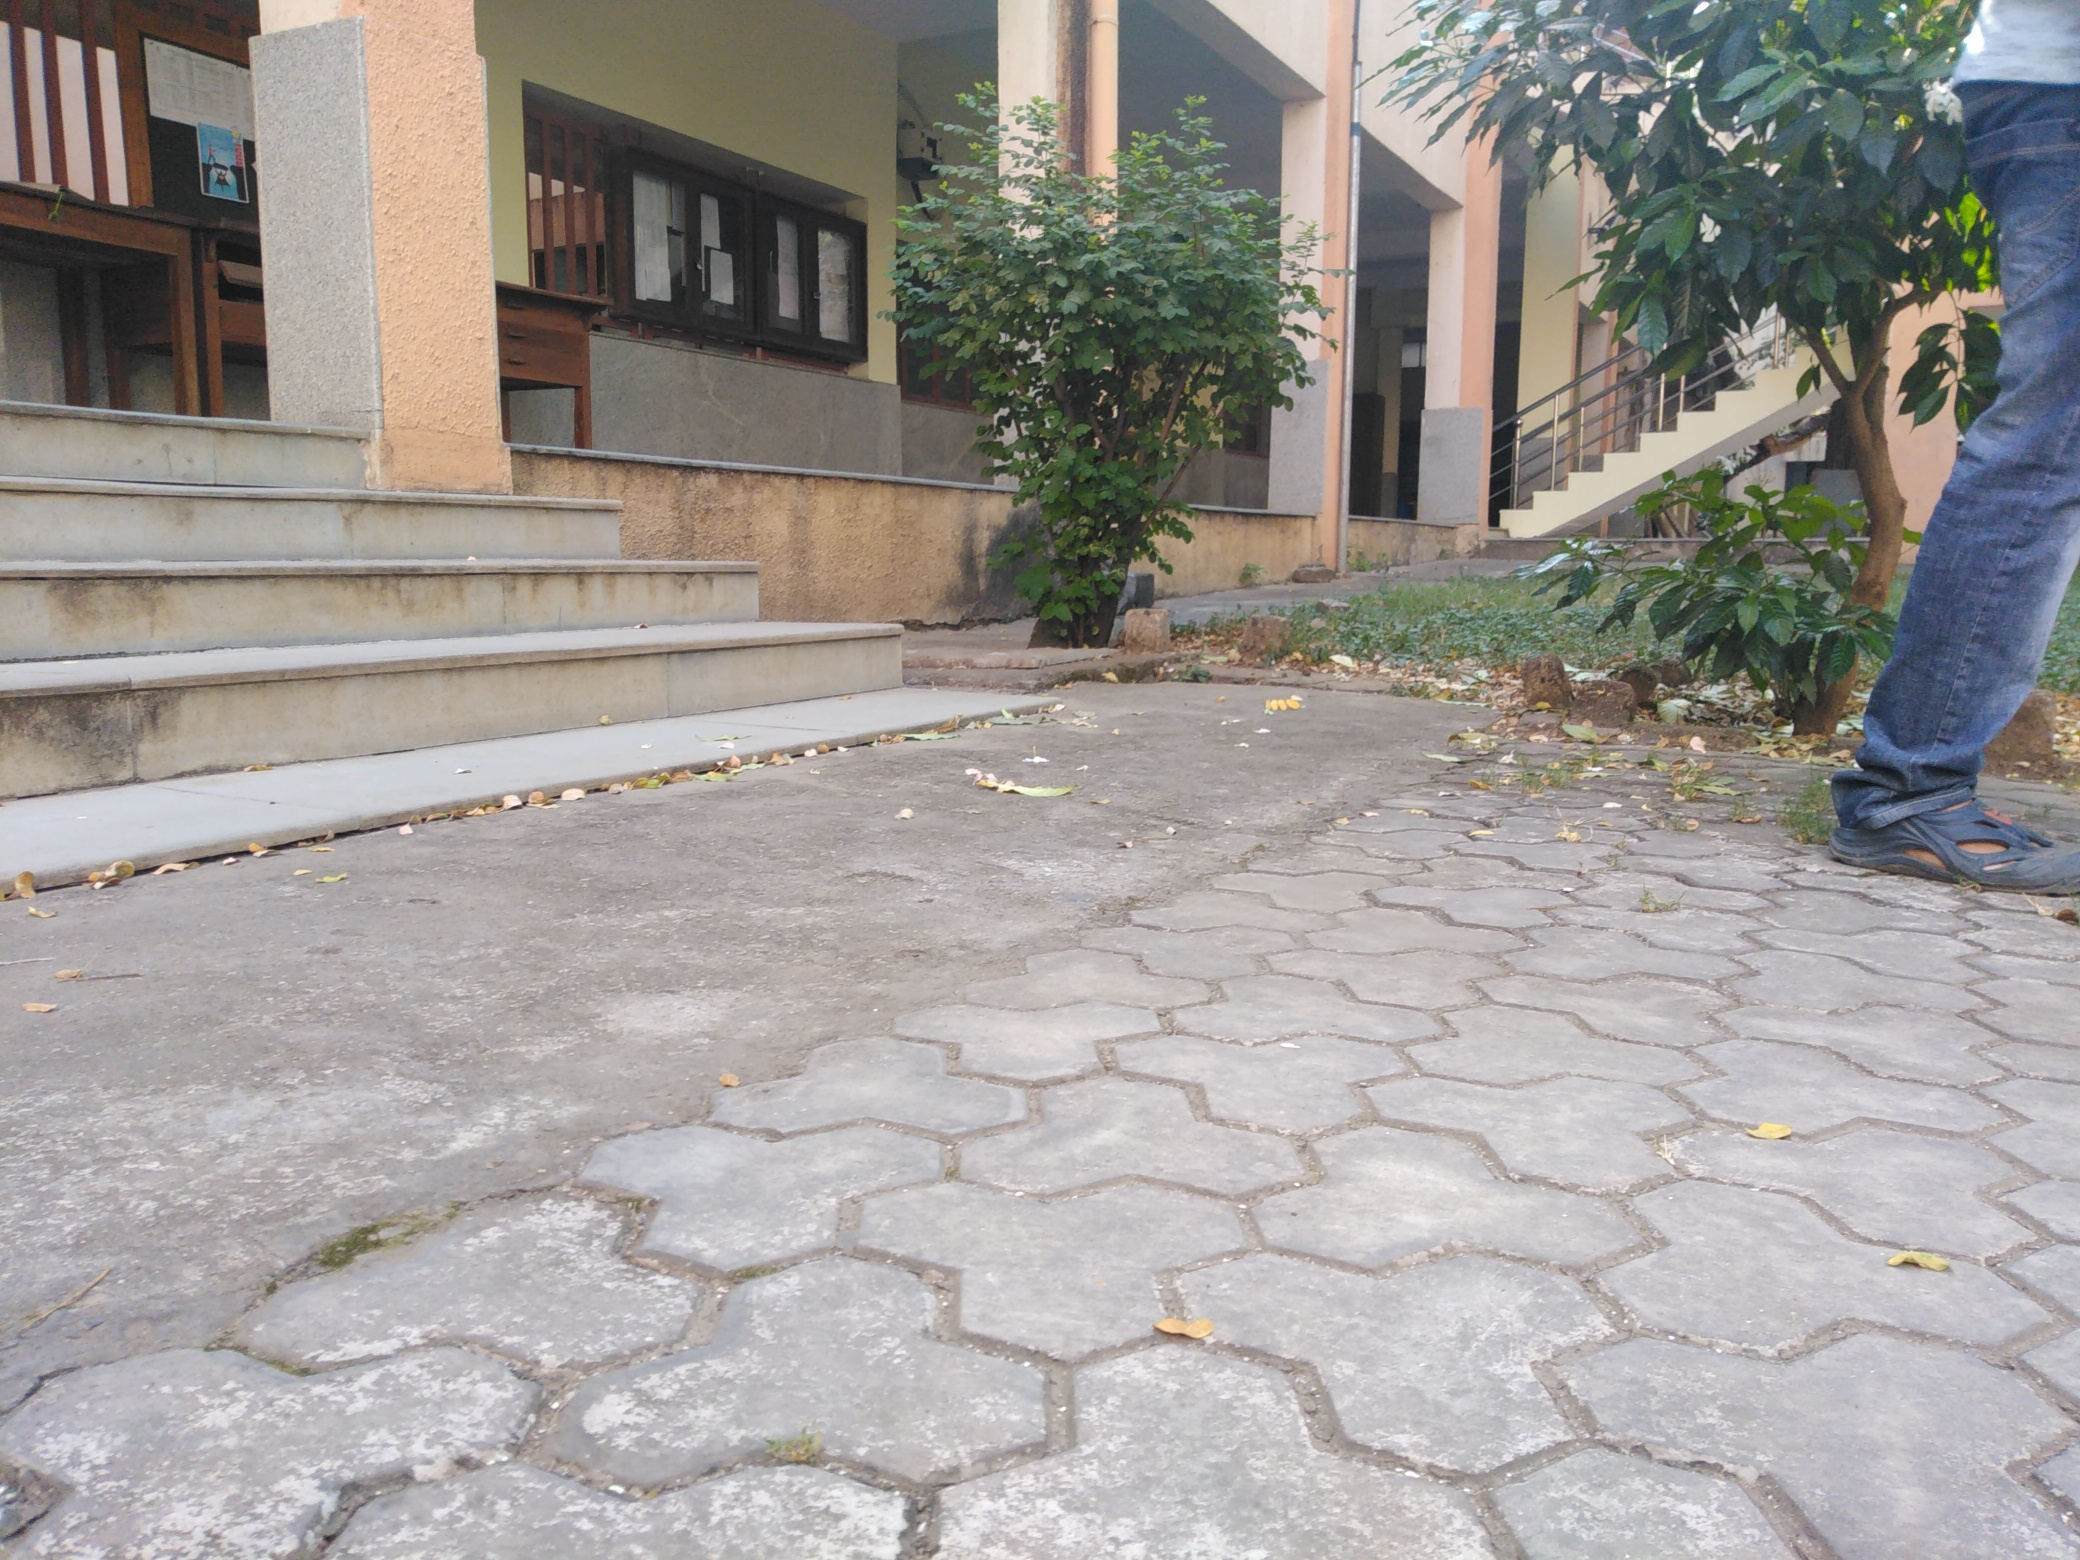stairs_up: (5, 382, 894, 805)
